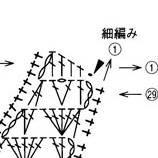enseble_chain: (16, 48, 50, 94), (35, 100, 69, 141), (23, 77, 55, 112), (61, 105, 90, 142), (50, 49, 80, 80), (55, 78, 81, 108), (22, 134, 50, 158), (87, 55, 109, 80), (72, 79, 90, 107), (97, 57, 116, 82), (117, 60, 145, 76), (119, 86, 145, 103), (17, 109, 34, 135), (44, 51, 60, 78), (56, 107, 72, 133), (53, 136, 68, 158), (65, 136, 78, 157), (113, 26, 126, 41), (101, 27, 115, 40), (146, 60, 158, 75), (147, 87, 158, 102)
fan: (0, 58, 16, 67)
